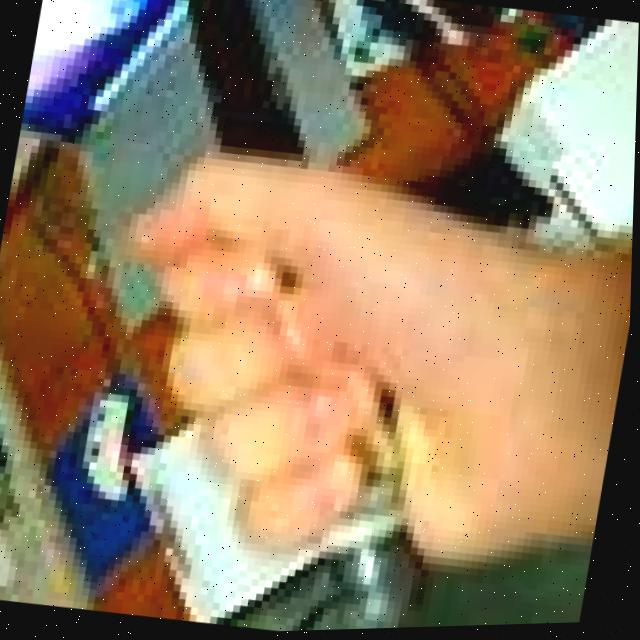knife: (130, 0, 330, 161)
